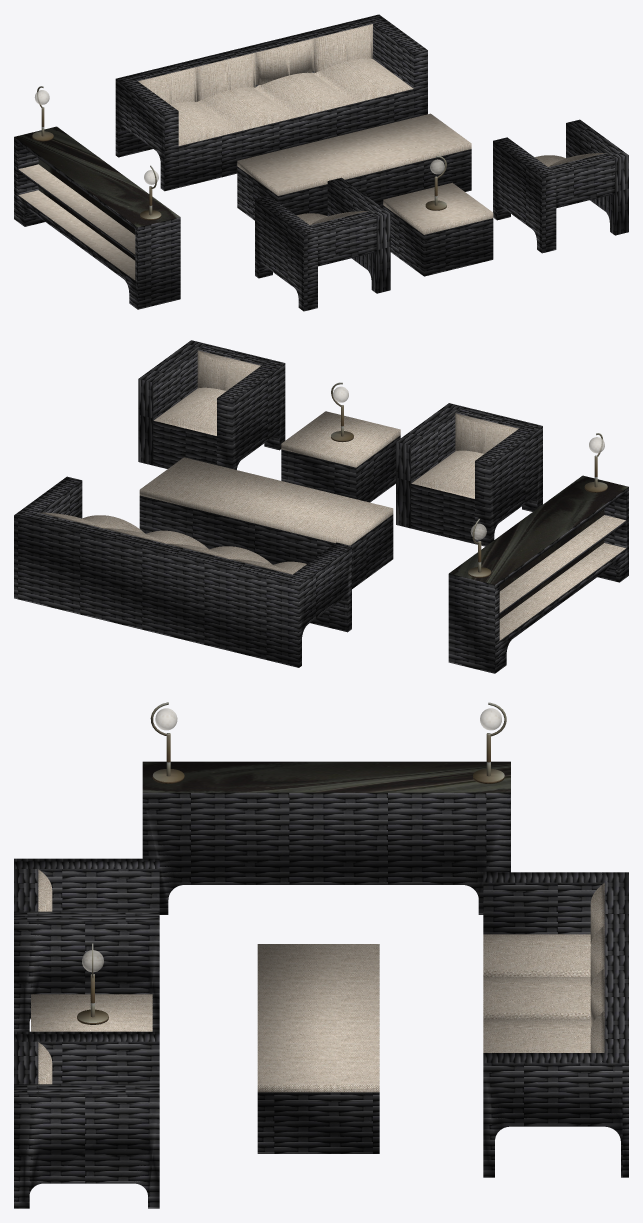
File: patio_set.glb
3 views of the same model, one above another, from view 1: azimuth 30°, elevation 25°; view 2: azimuth 150°, elevation 25°; view 3: azimuth 270°, elevation 25° (orthographic). The views are drawn at different scales.
Parts seen in each view (by area): view 1: Material2 (×5); view 2: Material2 (×5); view 3: Material2 (×5).
Part boxes in pixels (bbox=[...]): Material2 (×5): bbox=[14, 14, 628, 311]; Material2 (×5): bbox=[14, 340, 628, 673]; Material2 (×5): bbox=[14, 702, 628, 1208].
Size of the model in its own units: 315 by 88.93 by 252.
Materials: 8 (7 with a texture image).
